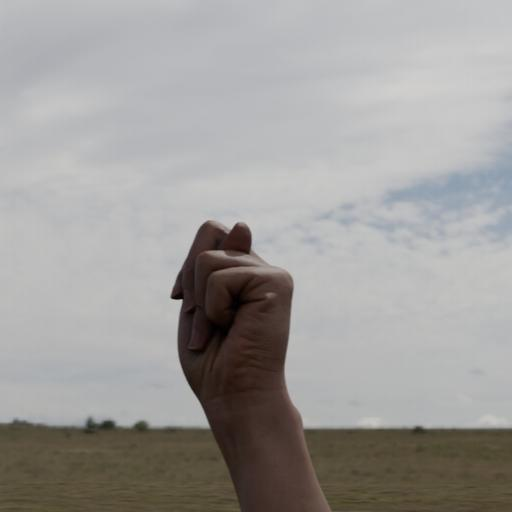N: (157, 200, 321, 435)
